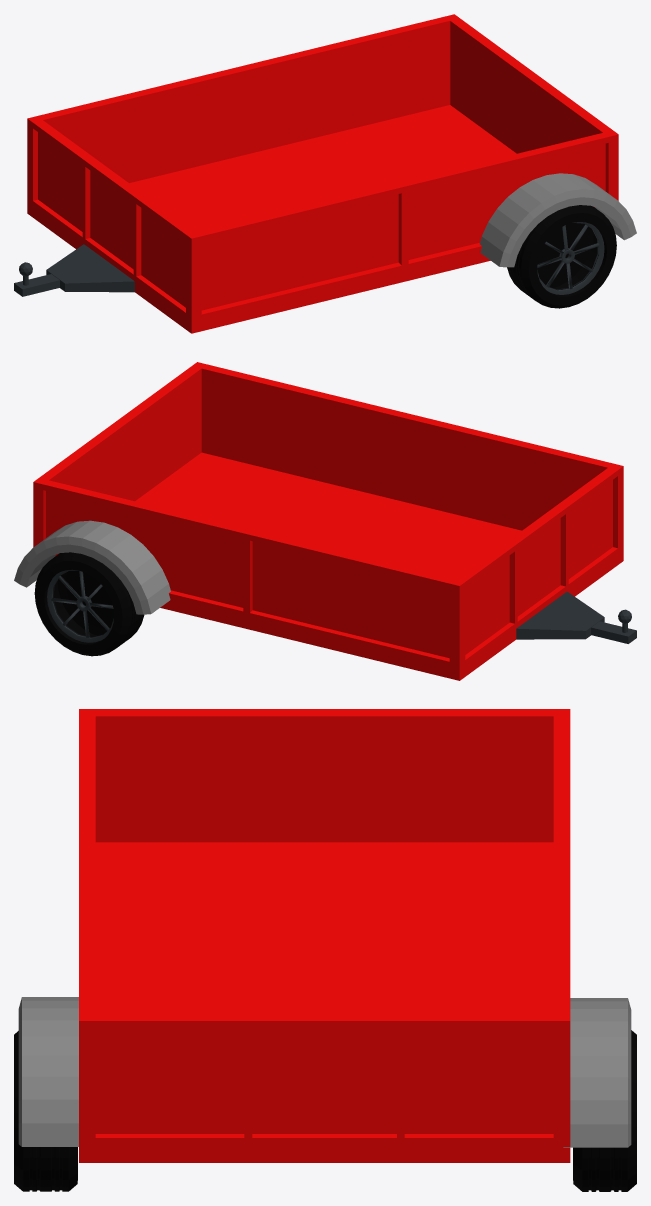
File: Trailer.fbx
3 views of the same model, one above another, from view 1: azimuth 30°, elevation 25°; view 2: azimuth 150°, elevation 25°; view 3: azimuth 270°, elevation 25° (orthographic). The views are drawn at different scales.
Parts seen in each view (by area): view 1: Cylinder; view 2: Cylinder; view 3: Cylinder.
Part boxes in pixels (bbox=[...]): Cylinder: bbox=[14, 14, 636, 333]; Cylinder: bbox=[14, 362, 636, 680]; Cylinder: bbox=[14, 709, 636, 1191].
Bounding box in the file's own units: 291 × 76.42 × 202.
